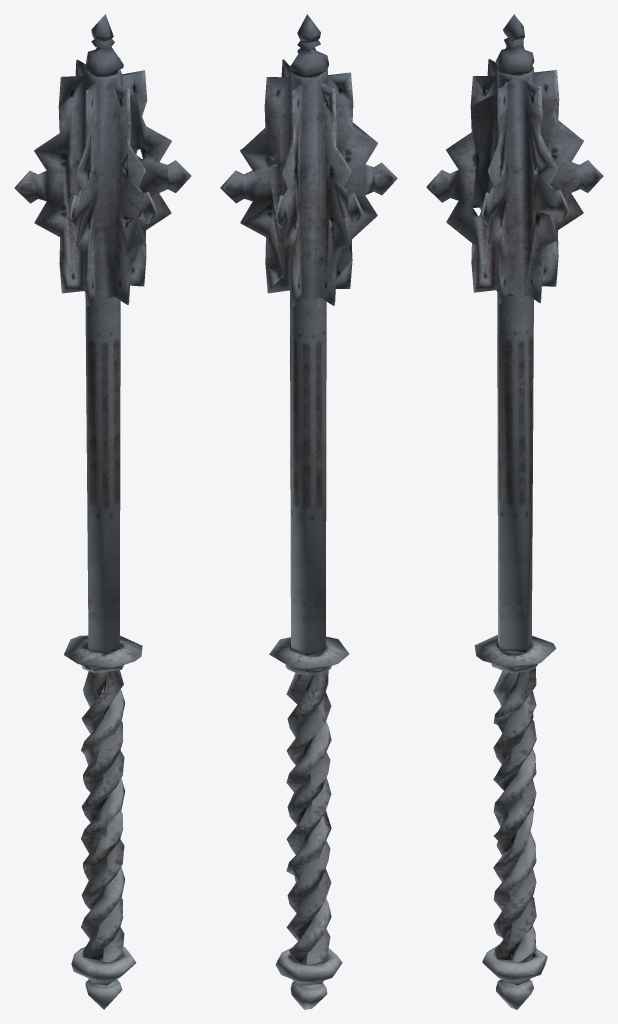
File: ornate_medieval_mace.glb
3 views of the same model, side by side, from view 1: azimuth 30°, elevation 25°; view 2: azimuth 150°, elevation 25°; view 3: azimuth 270°, elevation 25° (orthographic).
Visible parts, largest first — view 1: ornate_medieval_mace; view 2: ornate_medieval_mace; view 3: ornate_medieval_mace.
Part boxes in pixels (box(x1,y1,x2,y2)): ornate_medieval_mace: box(14, 14, 191, 1009); ornate_medieval_mace: box(220, 14, 397, 1009); ornate_medieval_mace: box(426, 14, 603, 1009).
Size of the model in its own units: 0.0949 by 0.6287 by 0.1015.
Materials: 1 (1 with a texture image).
